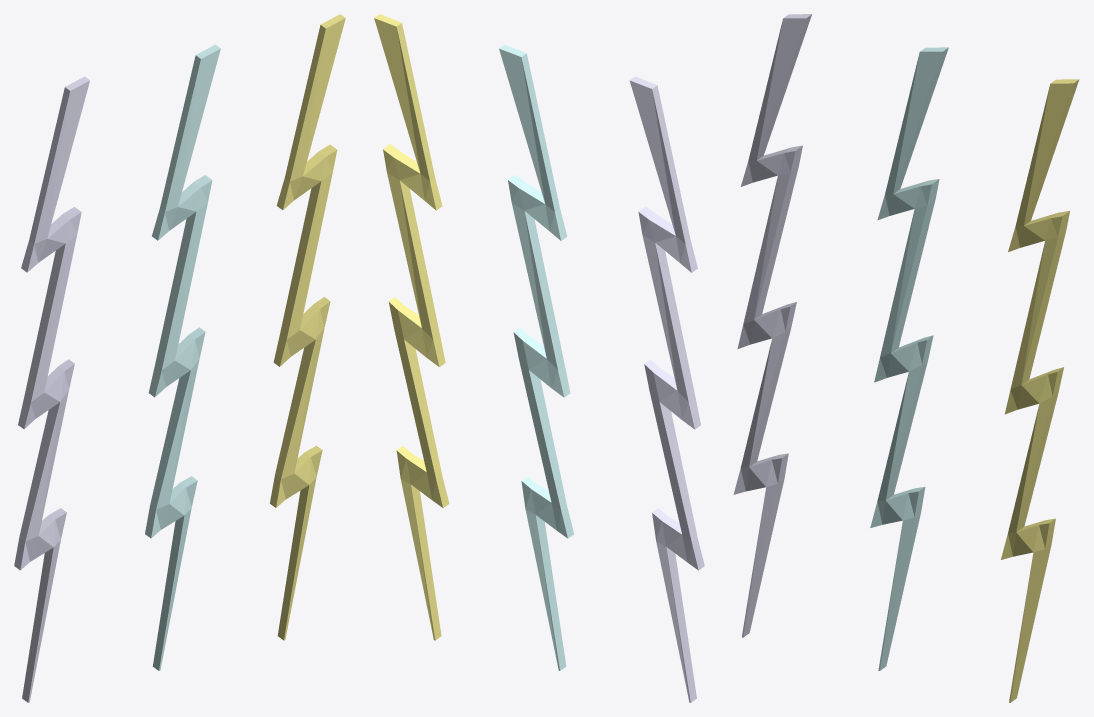
The model's file is lightningbolts.fbx.
The picture shows the model from 3 angles, left to right: view 1: azimuth 30°, elevation 25°; view 2: azimuth 150°, elevation 25°; view 3: azimuth 330°, elevation 25°; orthographic projection. The views are drawn at different scales.
Visible parts, largest first — view 1: SM_lightningbolt_03_AN, SM_lightningbolt_02_AN, SM_lightningbolt_01_AN; view 2: SM_lightningbolt_02_AN, SM_lightningbolt_01_AN, SM_lightningbolt_03_AN; view 3: SM_lightningbolt_02_AN, SM_lightningbolt_01_AN, SM_lightningbolt_03_AN.
Boxes of the visible parts, x1=… form: SM_lightningbolt_03_AN: x1=14, y1=76, x2=89, y2=702; SM_lightningbolt_02_AN: x1=145, y1=44, x2=220, y2=670; SM_lightningbolt_01_AN: x1=270, y1=14, x2=345, y2=640; SM_lightningbolt_02_AN: x1=499, y1=44, x2=573, y2=670; SM_lightningbolt_01_AN: x1=374, y1=14, x2=449, y2=640; SM_lightningbolt_03_AN: x1=629, y1=76, x2=704, y2=702; SM_lightningbolt_02_AN: x1=870, y1=47, x2=948, y2=670; SM_lightningbolt_01_AN: x1=1001, y1=79, x2=1079, y2=702; SM_lightningbolt_03_AN: x1=733, y1=14, x2=811, y2=637.
Size of the model in its own units: 1468 by 74.8 by 2617.
